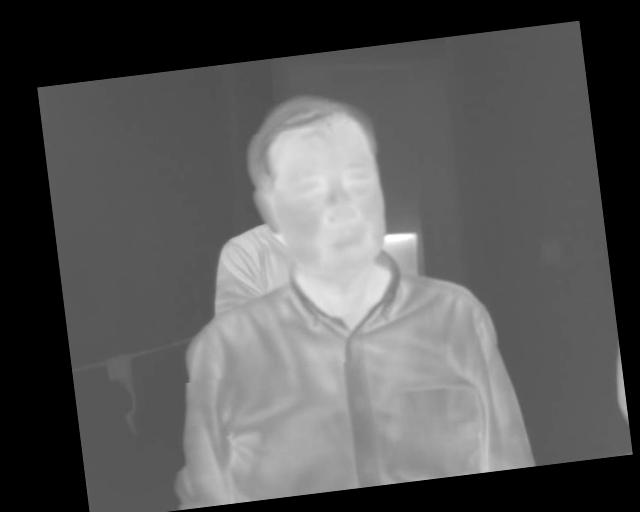face: (238, 83, 393, 286)
